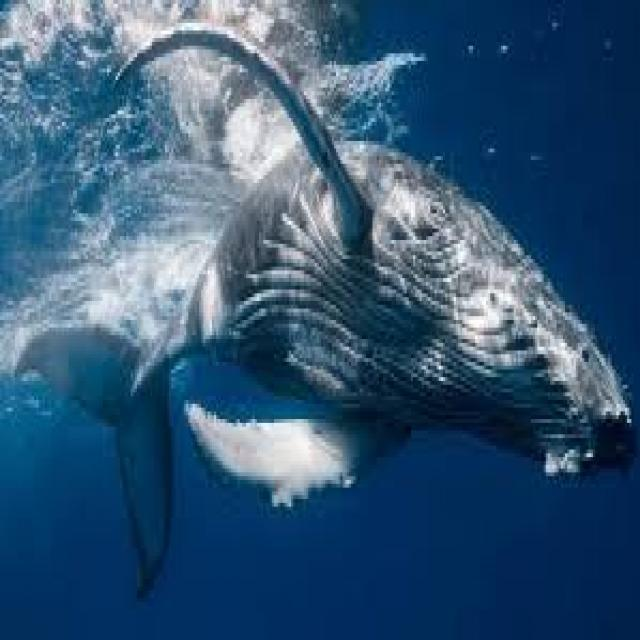blue_whale: (0, 27, 640, 544)
